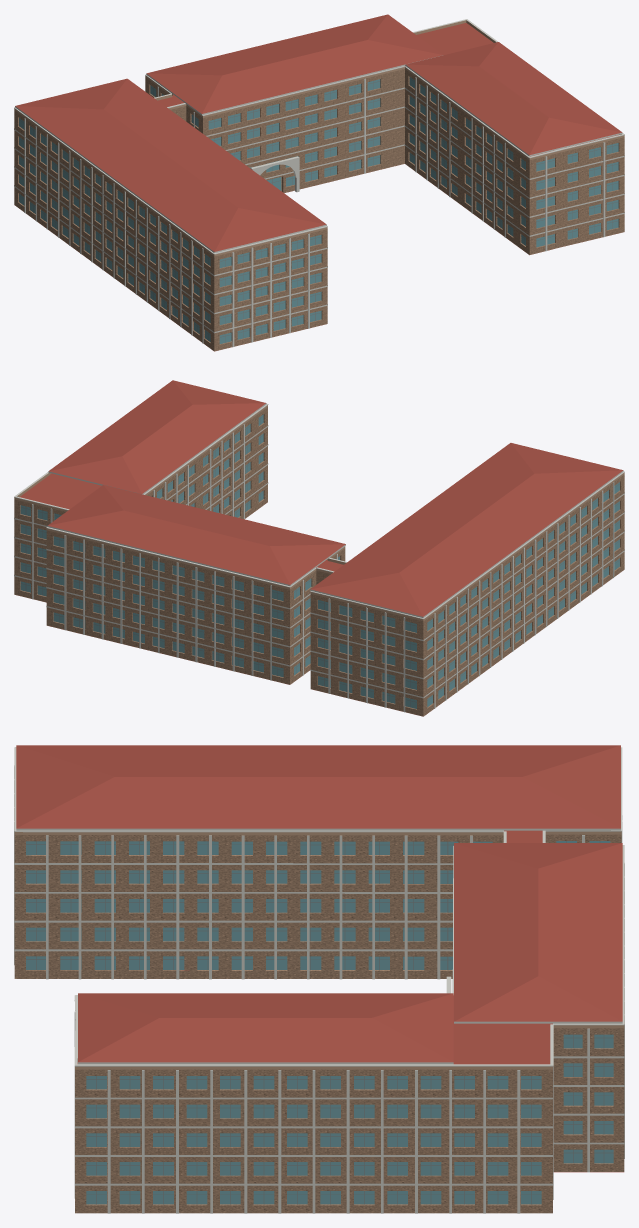
3 views of the same model, one above another, from view 1: azimuth 30°, elevation 25°; view 2: azimuth 150°, elevation 25°; view 3: azimuth 270°, elevation 25° (orthographic). The views are drawn at different scales.
Parts seen in each view (by area): view 1: engineering__wall, engineering__roof, engineering__glass, engineering__trim, engineering__frame, engineering__parapet; view 2: engineering__roof, engineering__wall, engineering__glass, engineering__trim, engineering__frame, engineering__parapet; view 3: engineering__roof, engineering__wall, engineering__glass, engineering__trim, engineering__frame, engineering__parapet.
Boxes of the visible parts, <box> form: engineering__wall: <box>14,69,624,351</box>; engineering__roof: <box>15,14,622,351</box>; engineering__glass: <box>19,77,618,343</box>; engineering__trim: <box>14,19,624,346</box>; engineering__frame: <box>19,78,618,342</box>; engineering__parapet: <box>14,20,624,256</box>; engineering__roof: <box>17,380,623,714</box>; engineering__wall: <box>14,407,624,716</box>; engineering__glass: <box>20,414,619,708</box>; engineering__trim: <box>14,403,624,712</box>; engineering__frame: <box>20,416,619,707</box>; engineering__parapet: <box>14,405,624,621</box>; engineering__roof: <box>16,745,623,1172</box>; engineering__wall: <box>14,834,624,1213</box>; engineering__glass: <box>26,841,613,1204</box>; engineering__trim: <box>14,747,624,1213</box>; engineering__frame: <box>26,841,613,1204</box>; engineering__parapet: <box>14,831,624,1069</box>.
Size of the model in its own units: 85.64 by 20.45 by 69.36.
Materials: 8 (1 with a texture image).
